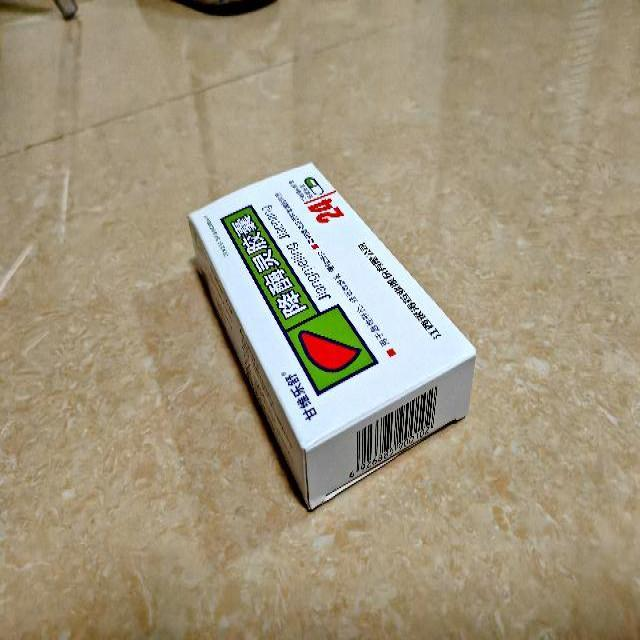box: (185, 162, 477, 513)
